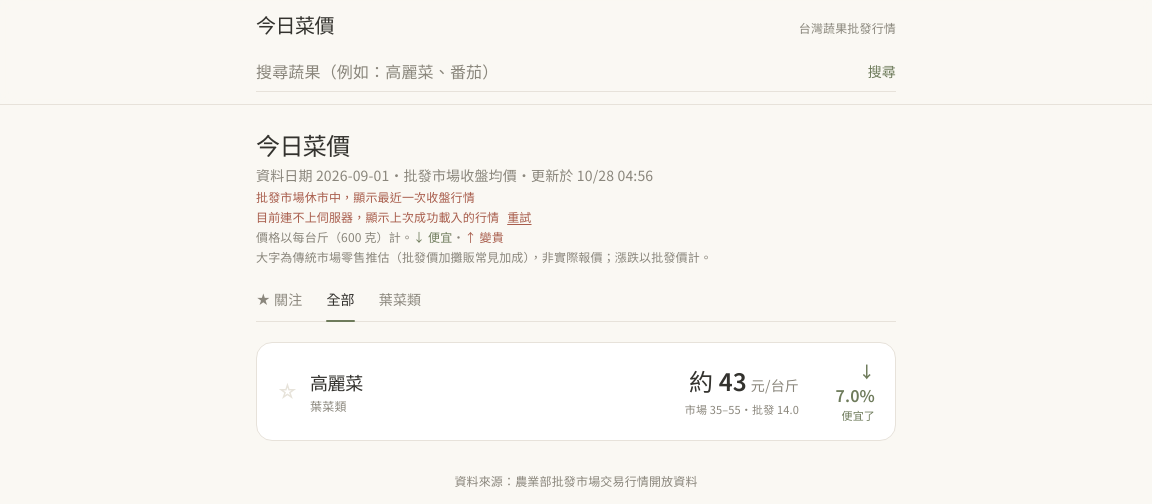
it: App — recovery via the banner retry › replaces the cached board with fresh data after a successful retry
The image size is (1152, 504).
Check: the text "目前連不上伺服器，顯示上次成功載入的行情 重試" is shown, box [256, 208, 532, 225]
Click the button "重試" at (519, 217), box [507, 209, 532, 225]
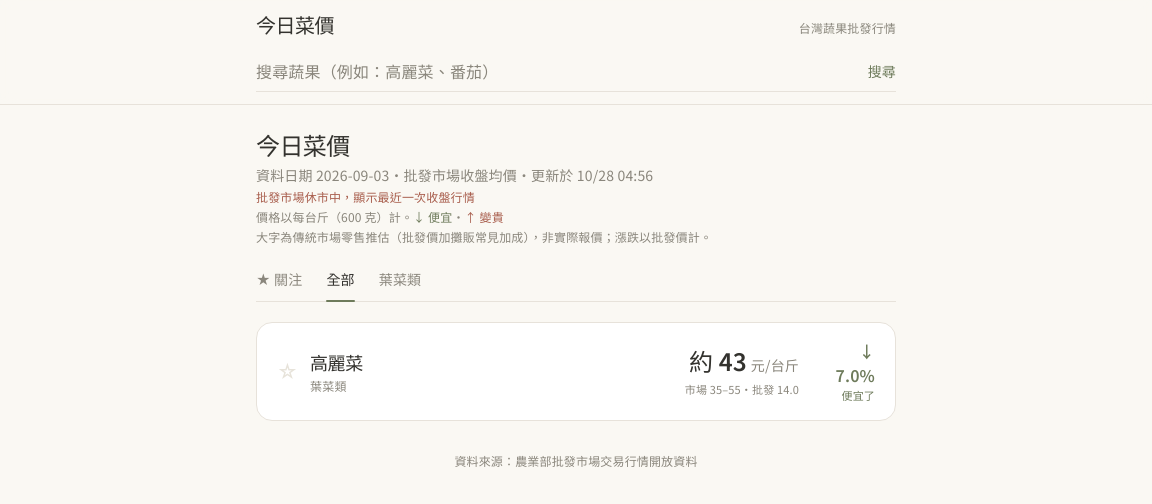
Check: the heading "高麗菜" is shown, box [310, 348, 363, 376]
Check: the text "資料日期 2026-09-03・批發市場收盤均價・更新於 10/28 04:56" is shown, box [256, 165, 653, 185]
Check: the text "目前連不上伺服器" is gone
